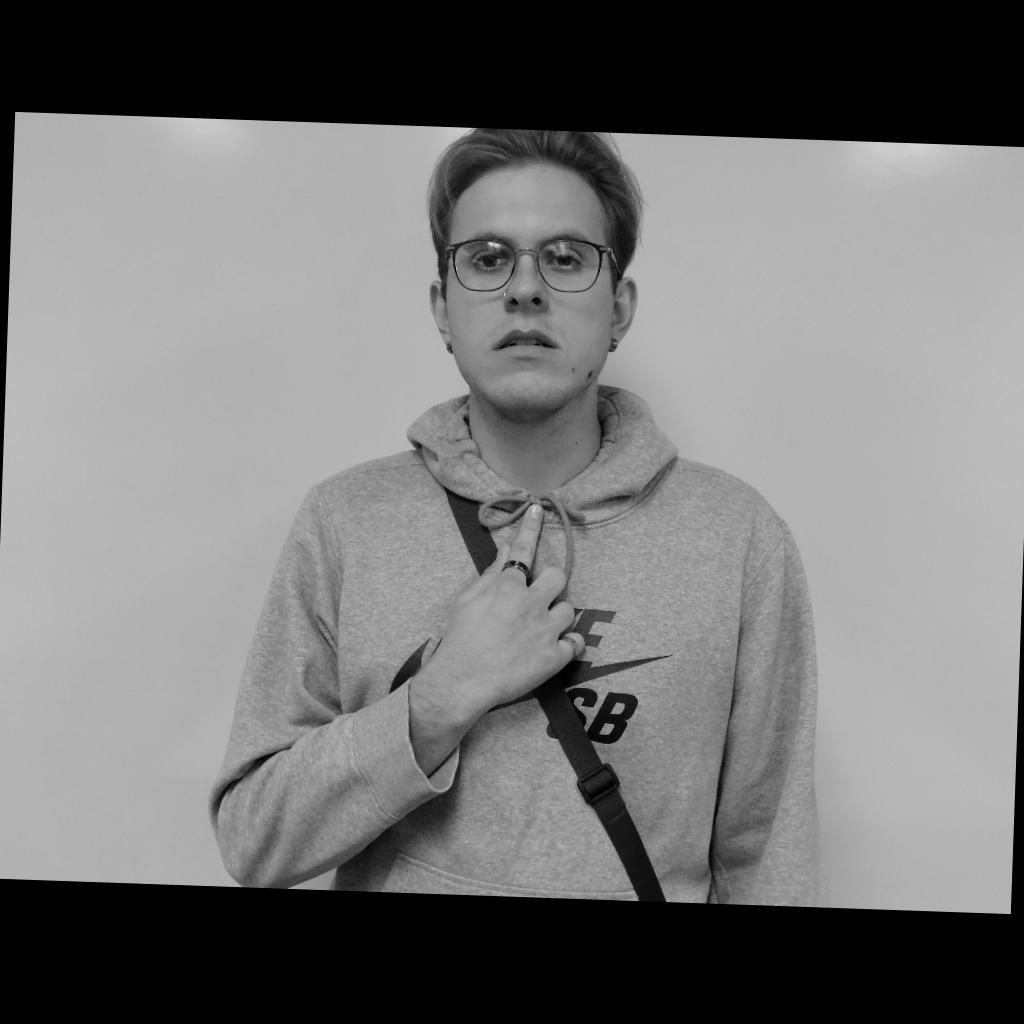I: (428, 500, 590, 706)
